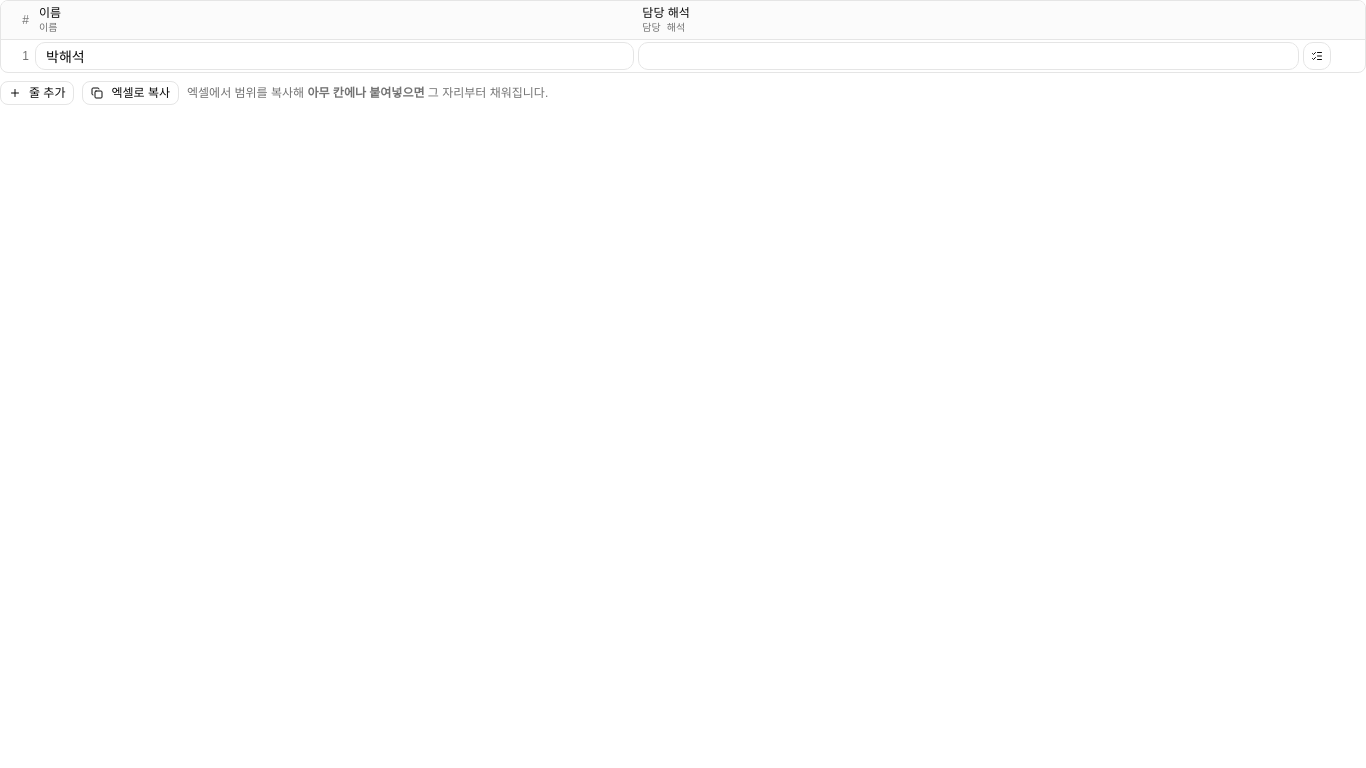
Test: PasteGrid — 여럿 고르는 칸 › 이름으로 찾아 좁힌다 — 해석이 백 개가 되는 날이 온다
This screenshot has width=1366, height=768.
Click the button named "1번 줄 담당 해석 고르기".
click(1317, 56)  # box [1303,42,1331,70]
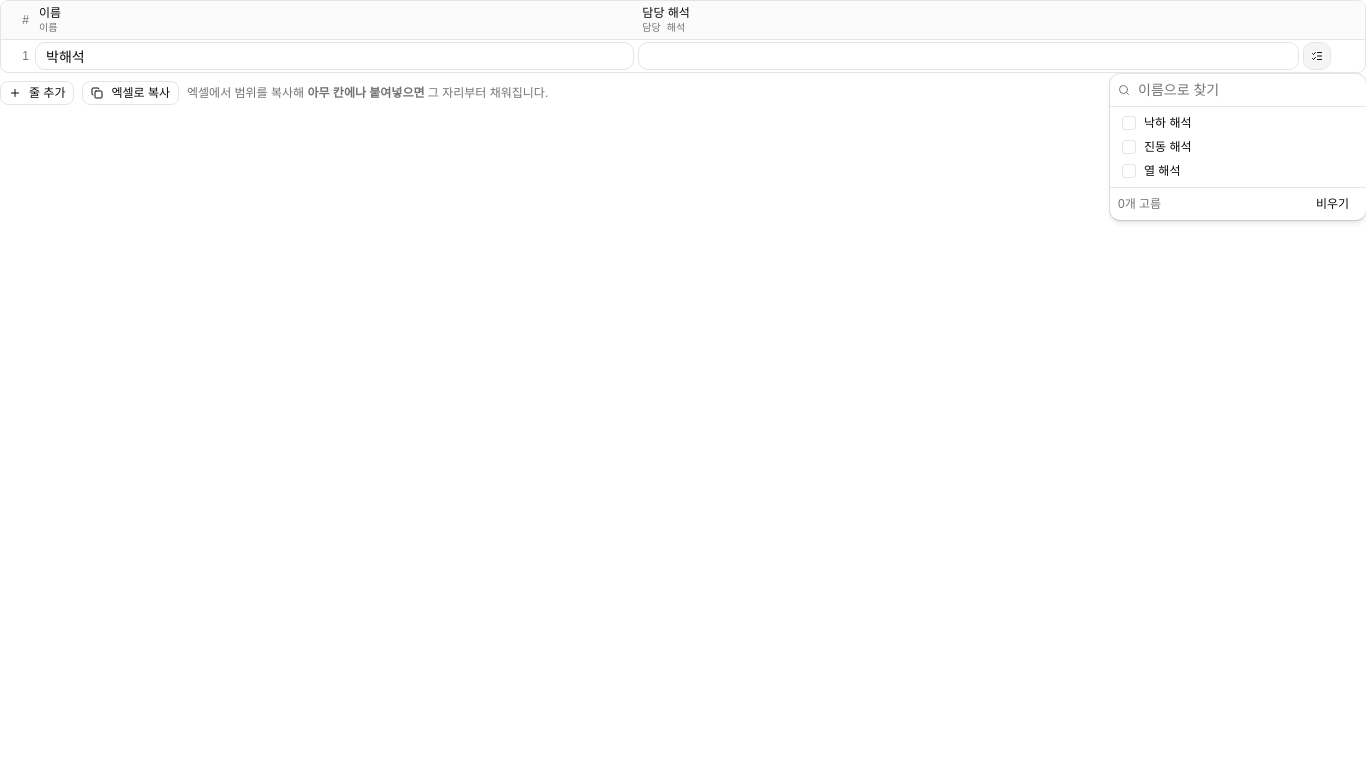
Type "진동" into the field named "1번 줄 담당 해석 검색".
click(1246, 90); type("진동")  # box [1134,74,1358,106]
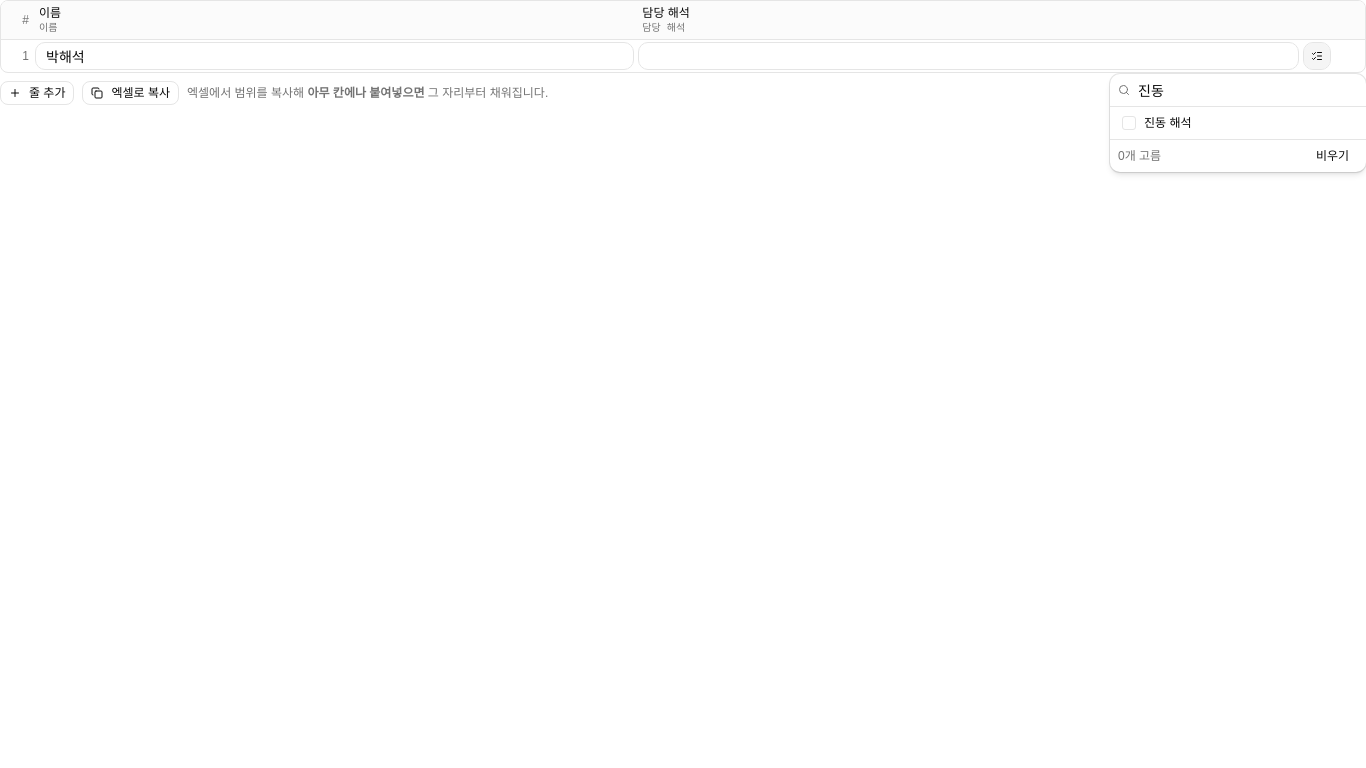
Expected: the button "진동 해석" is shown, [1114,111,1362,135]
Expected: the button "열 해석" is gone
